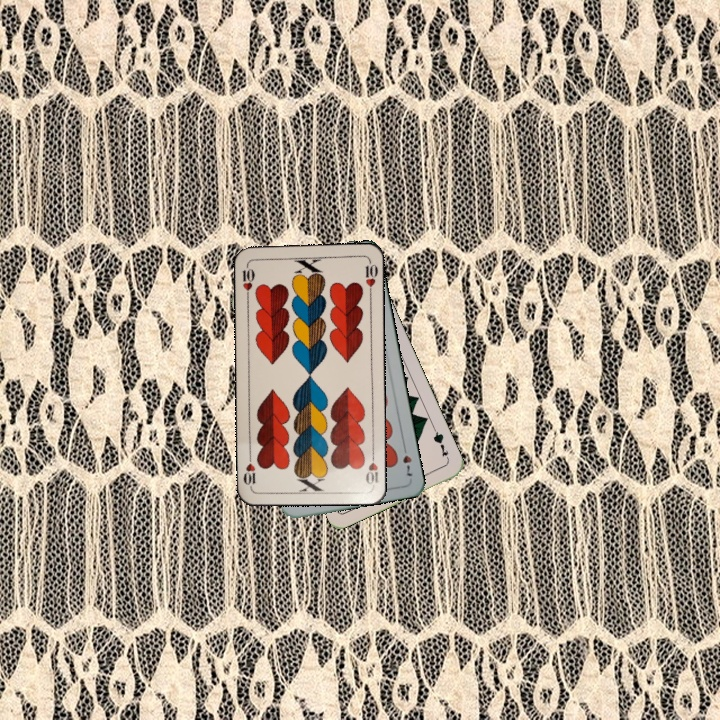G7: (429, 425, 452, 464)
H10: (362, 447, 381, 488), (239, 260, 257, 301)
H7: (399, 440, 414, 480)
